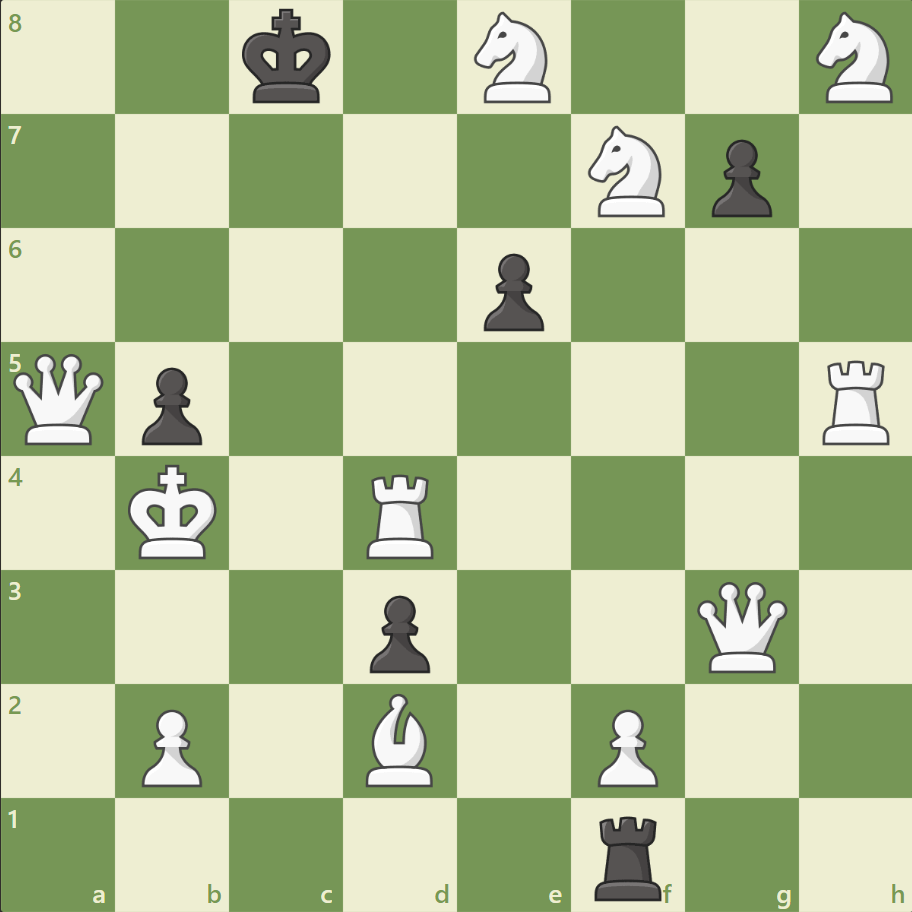B: (358, 687, 442, 790)
K: (124, 458, 224, 566)
N: (465, 7, 562, 110), (806, 7, 903, 110), (579, 121, 676, 223)
P: (133, 700, 208, 791), (588, 700, 662, 791)
Q: (10, 349, 109, 449), (691, 576, 790, 676)
R: (814, 352, 897, 449), (360, 466, 442, 563)
k: (238, 4, 338, 112)
p: (701, 132, 776, 223), (474, 246, 549, 337), (133, 359, 208, 450), (361, 586, 435, 677)
r: (587, 806, 670, 904)
